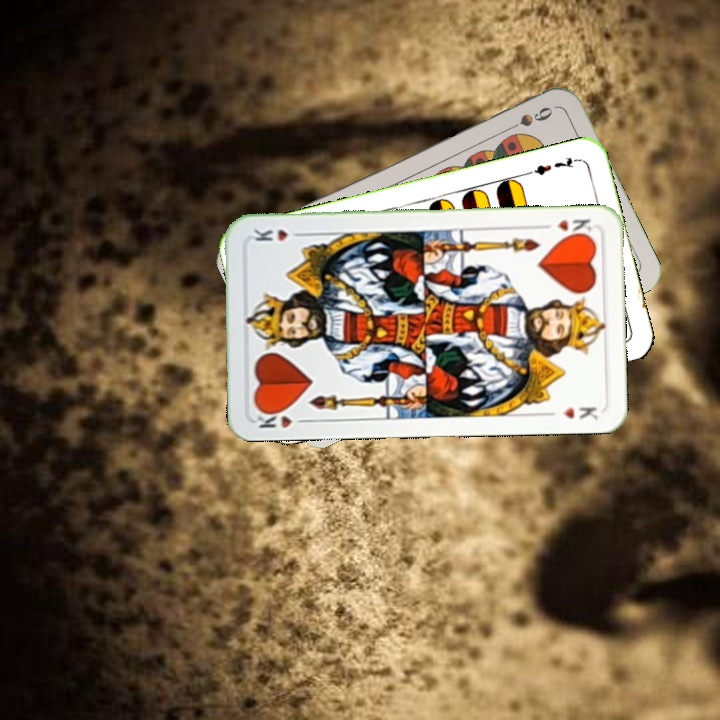E7: (524, 152, 582, 178)
HK: (252, 405, 311, 431), (538, 215, 595, 240)
S9: (500, 103, 556, 135)
